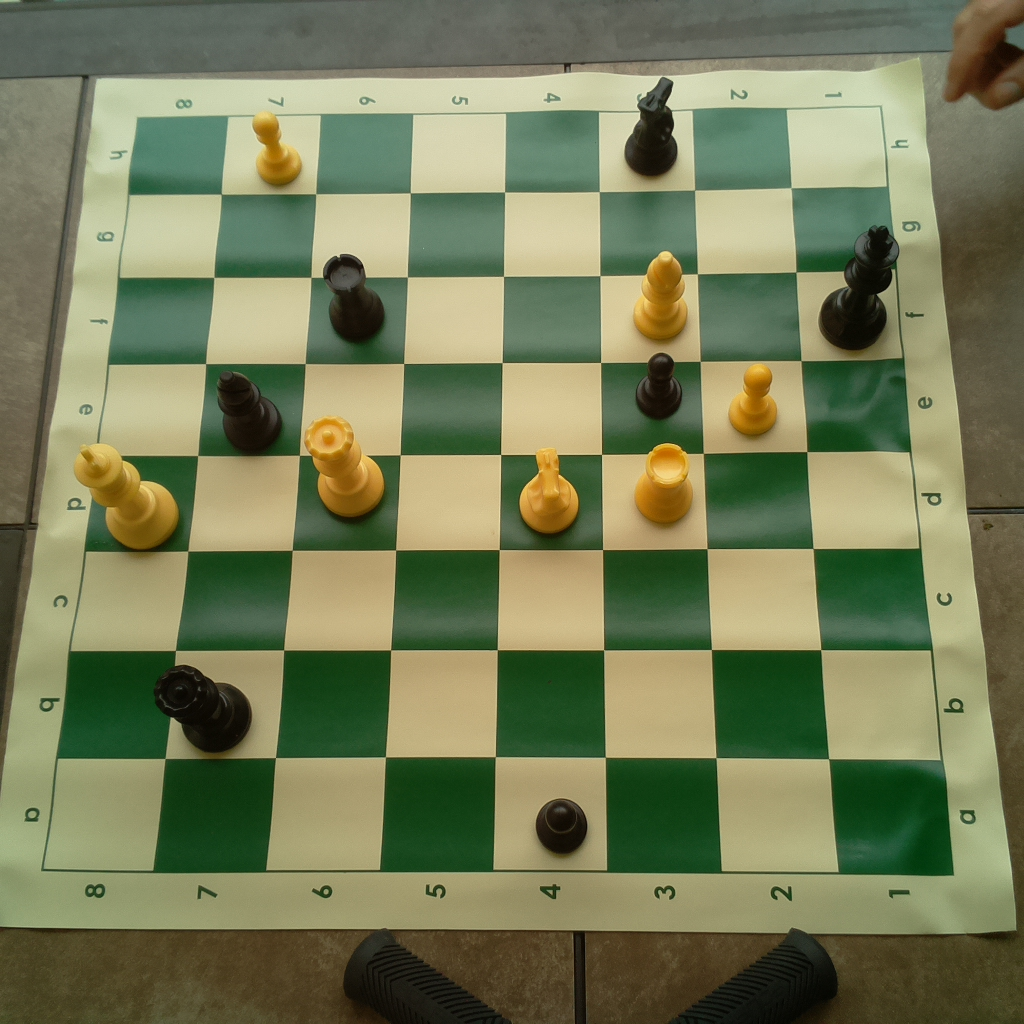black_bishop: (210, 366, 286, 456)
black_king: (816, 219, 903, 354)
black_knight: (611, 75, 686, 180)
black_pawn: (632, 345, 686, 421), (532, 793, 593, 857)
black_queen: (151, 657, 258, 757)
black_rook: (318, 249, 390, 344)
file_a: (45, 757, 957, 877)
file_b: (59, 653, 945, 760)
file_c: (67, 553, 932, 654)
file_d: (85, 453, 923, 548)
file_e: (94, 358, 908, 451)
file_f: (110, 267, 903, 362)
file_g: (120, 188, 894, 275)
file_h: (129, 105, 888, 199)
outline: (42, 104, 954, 875)
rank_1: (789, 106, 953, 874)
rank_2: (692, 108, 838, 874)
rank_3: (598, 108, 721, 870)
rank_4: (492, 112, 607, 871)
rank_5: (381, 115, 510, 873)
rank_6: (264, 114, 415, 871)
rank_7: (155, 117, 321, 871)
rank_8: (44, 112, 228, 873)
white_bishop: (633, 248, 693, 340)
white_king: (68, 438, 181, 552)
white_knight: (508, 443, 583, 531)
white_pawn: (245, 112, 305, 188), (729, 360, 785, 439)
white_queen: (305, 414, 386, 521)
white_rook: (633, 438, 697, 530)
